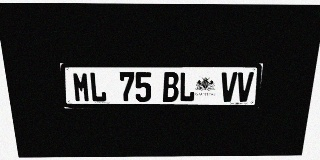5: (135, 72, 151, 102)
7: (118, 72, 135, 102)
B: (163, 72, 179, 102)
L: (89, 72, 107, 102), (179, 72, 195, 102)
M: (72, 72, 90, 102)
V: (236, 72, 254, 102), (220, 72, 237, 102)
